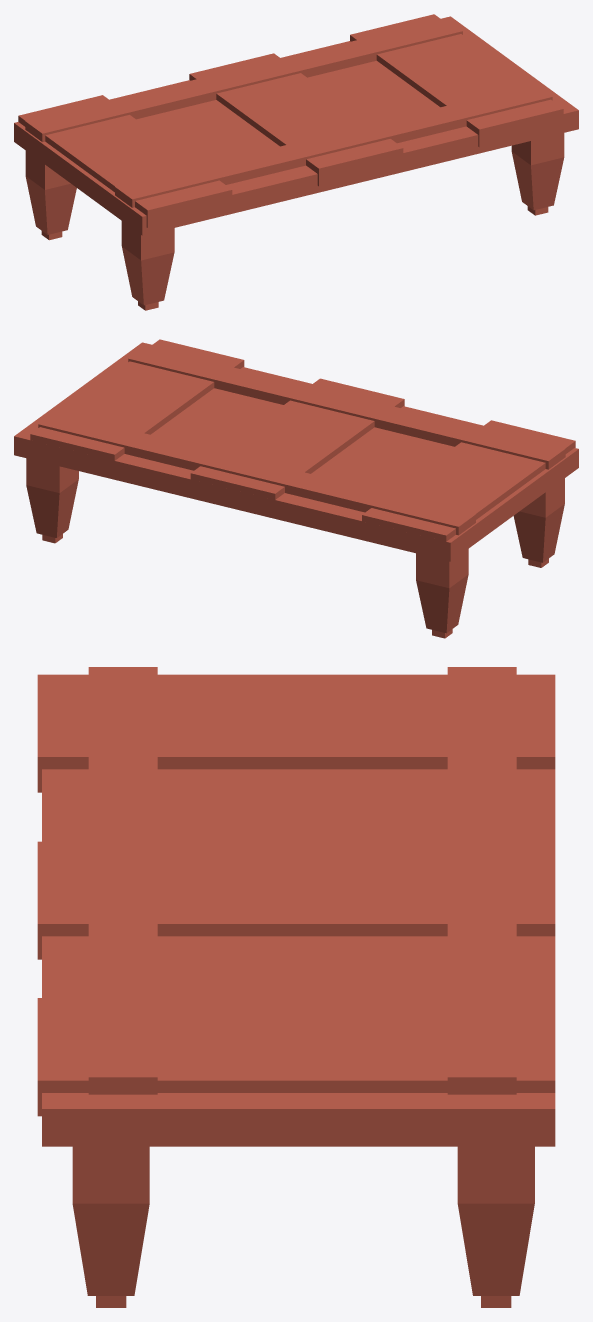
The model's file is bench3.fbx.
3 views of the same model, one above another, from view 1: azimuth 30°, elevation 25°; view 2: azimuth 150°, elevation 25°; view 3: azimuth 270°, elevation 25° (orthographic). The views are drawn at different scales.
Parts seen in each view (by area): view 1: Cube.038; view 2: Cube.038; view 3: Cube.038.
Boxes of the visible parts, bbox=[...] form: Cube.038: bbox=[14, 14, 578, 310]; Cube.038: bbox=[14, 339, 578, 638]; Cube.038: bbox=[37, 667, 555, 1307].
Bounding box in the file's own units: 240 × 61.06 × 123.
